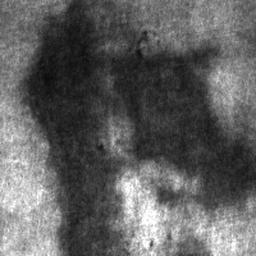Patches: (23, 1, 256, 256)
